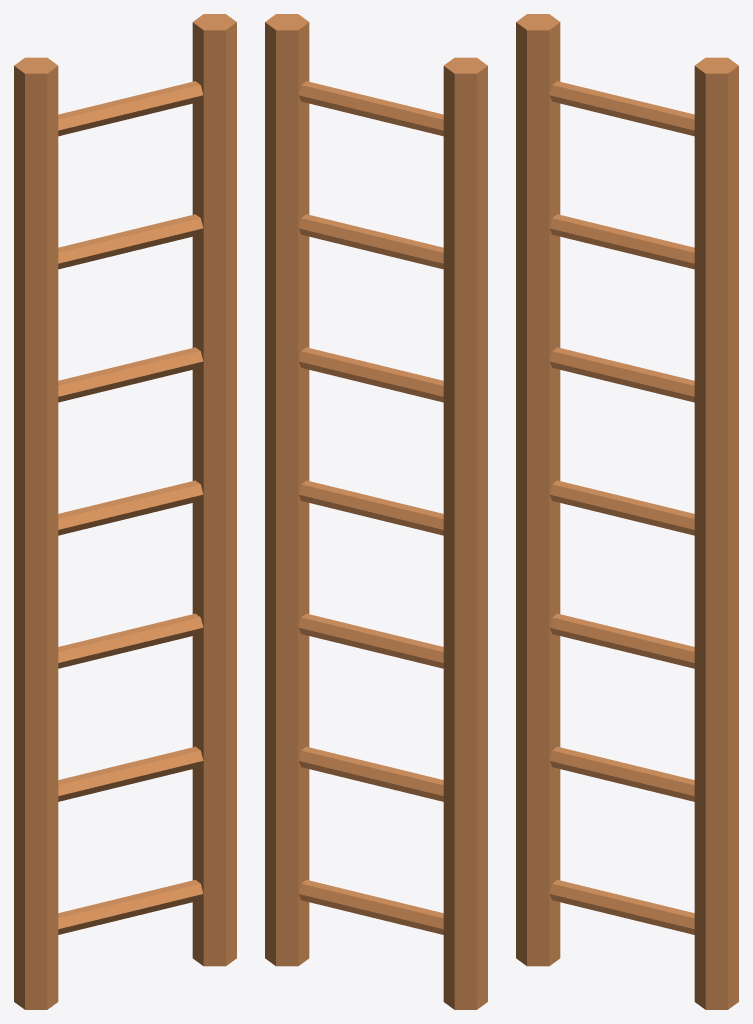
The model's file is ladder.glb.
3 views of the same model, side by side, from view 1: azimuth 30°, elevation 25°; view 2: azimuth 150°, elevation 25°; view 3: azimuth 330°, elevation 25° (orthographic).
Visible parts, largest first — view 1: ladr; view 2: ladr; view 3: ladr.
Boxes of the visible parts, left/top/right/bottom form: ladr: left=14, top=14, right=236, bottom=1009; ladr: left=265, top=14, right=487, bottom=1009; ladr: left=516, top=14, right=738, bottom=1009.
Size of the model in its own units: 237 by 1002 by 43.04.
Materials: 1 (1 with a texture image).
